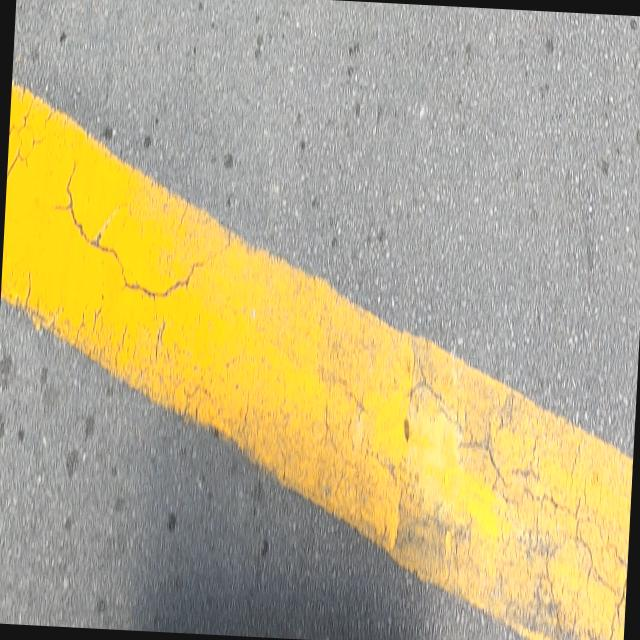Retak-Buaya: (405, 334, 623, 640)
Retak-Melintang: (63, 154, 205, 307)
